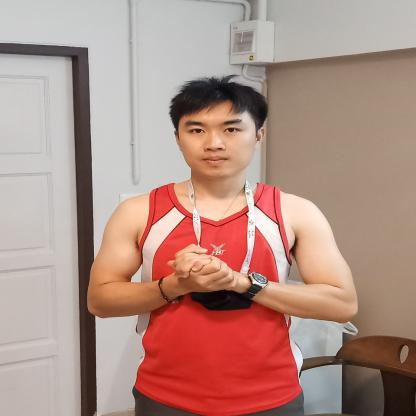Grieve: (116, 243, 350, 323)
